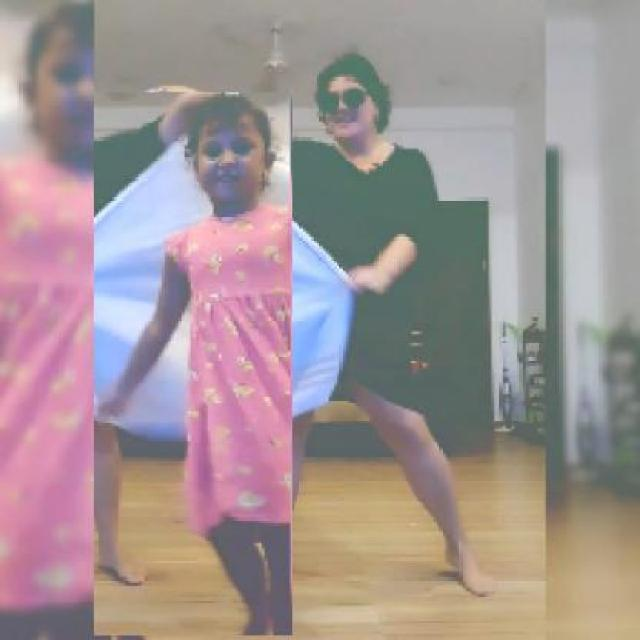child: (91, 92, 292, 637)
